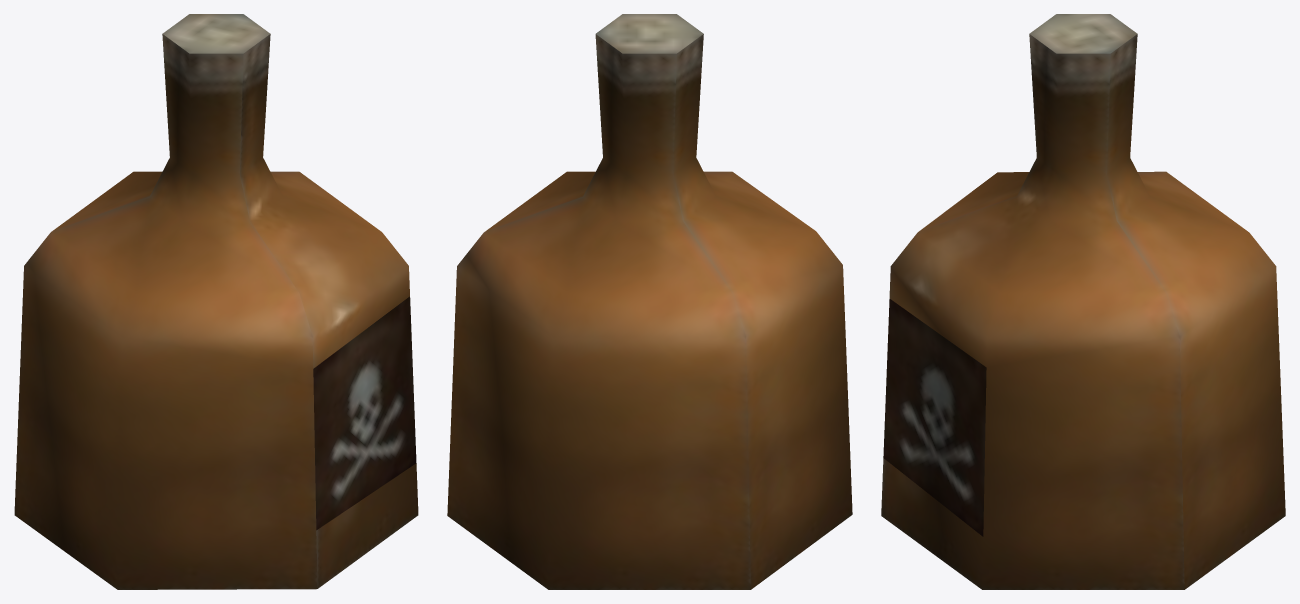
Rendered from bottle_brown.fbx.
3 views of the same model, side by side, from view 1: azimuth 30°, elevation 25°; view 2: azimuth 150°, elevation 25°; view 3: azimuth 270°, elevation 25° (orthographic).
Visible parts, largest first — view 1: lod_high; view 2: lod_high; view 3: lod_high.
Part boxes in pixels (<box>): lod_high: <box>14,14,418,589</box>; lod_high: <box>447,14,852,589</box>; lod_high: <box>881,14,1285,589</box>.
Bounding box in the file's own units: 44.16 × 67.04 × 50.99.
Materials: 1 (1 with a texture image).
